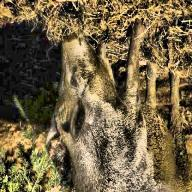boar: (32, 0, 191, 192)
